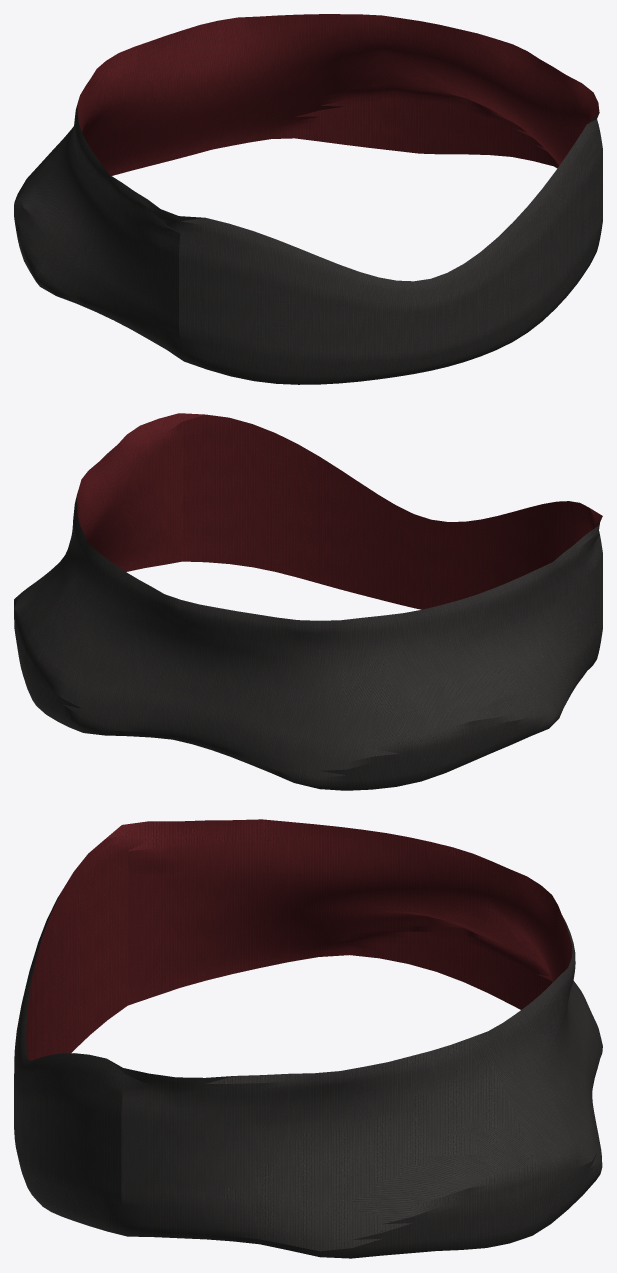
Rendered from cowl-neck-v1.glb.
3 renders of one model, top to bottom at view 1: azimuth 30°, elevation 25°; view 2: azimuth 150°, elevation 25°; view 3: azimuth 270°, elevation 25°, orthographic. The views are drawn at different scales.
Parts seen in each view (by area): view 1: neck; view 2: neck; view 3: neck.
Part boxes in pixels (x1,y1,x2,y2): neck: (14,14,602,384); neck: (14,413,602,790); neck: (14,819,602,1258).
Size of the model in its own units: 0.2261 by 0.0731 by 0.1865.
1 material, 1 textured.
